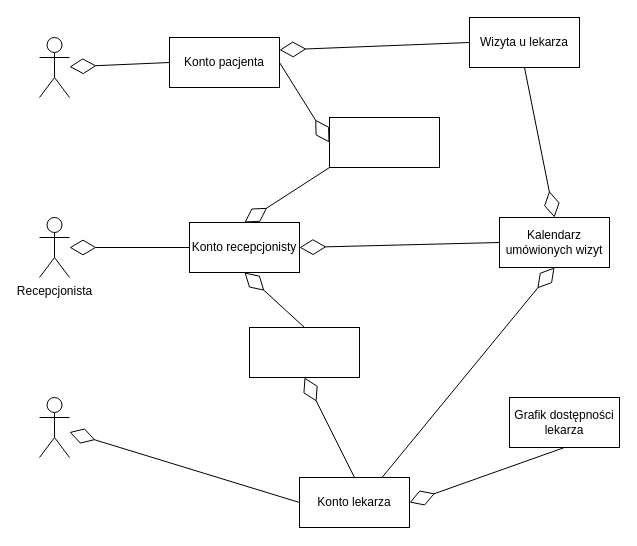
This 637x546 diagram has some shape labels left out. The centre of each missing label's shape, as x and y in pixels:
"Lekarz" goes at pixel 54 427.
"Pacjent" goes at pixel 54 67.
"Rejestr lekarzy" goes at pixel 304 352.
"Rejestr pacjentów" goes at pixel 384 142.
